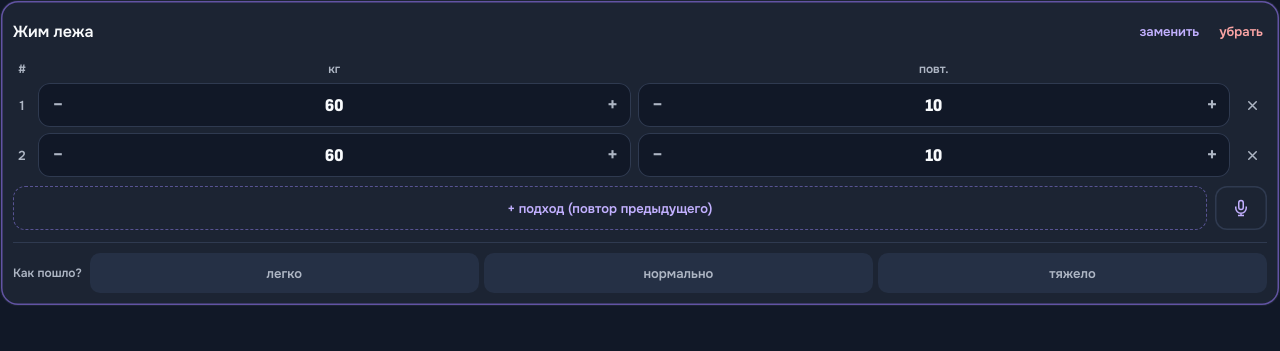
подход голосом в карточке › ошибка микрофона — подсказка про ввод вручную
The image size is (1280, 351).
Click the button named "Сказать подход голосом": (1241, 208) top-left (1215, 186), bottom-right (1267, 230)
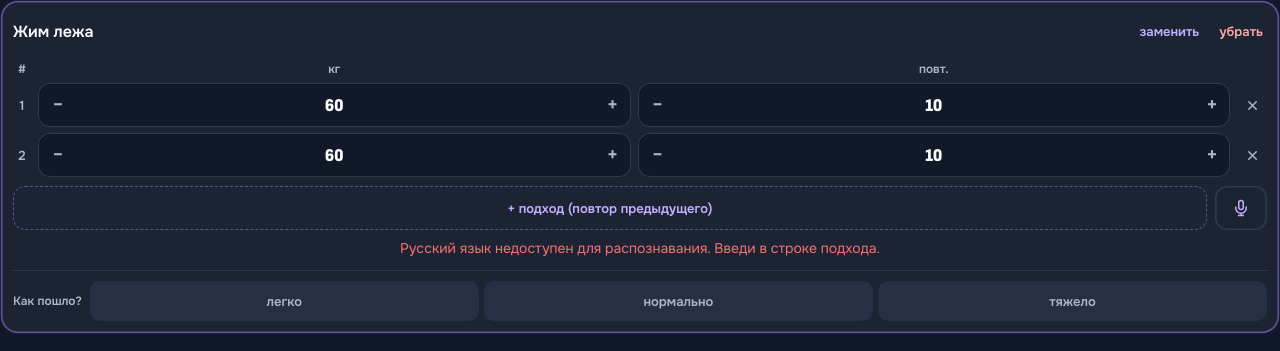
Result: the message shows "Введи в строке подхода." at top-left (400, 239), bottom-right (880, 257)
